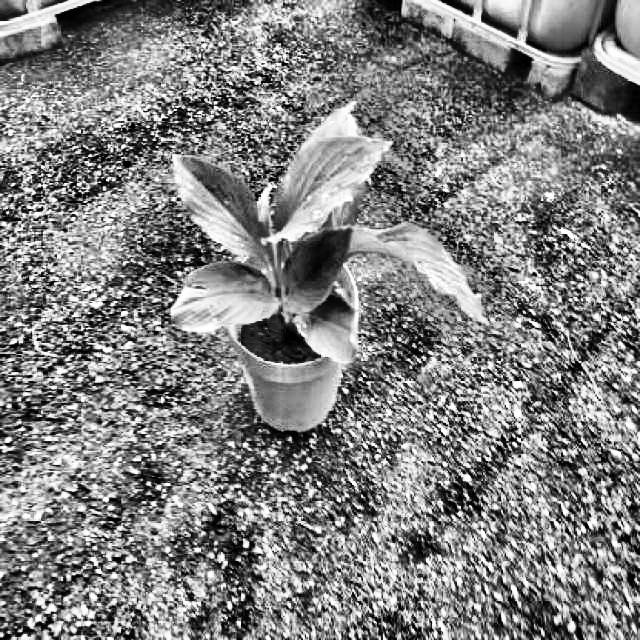plants: (172, 105, 490, 364)
